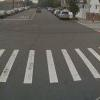Crosswalk: (5, 38, 100, 90)
